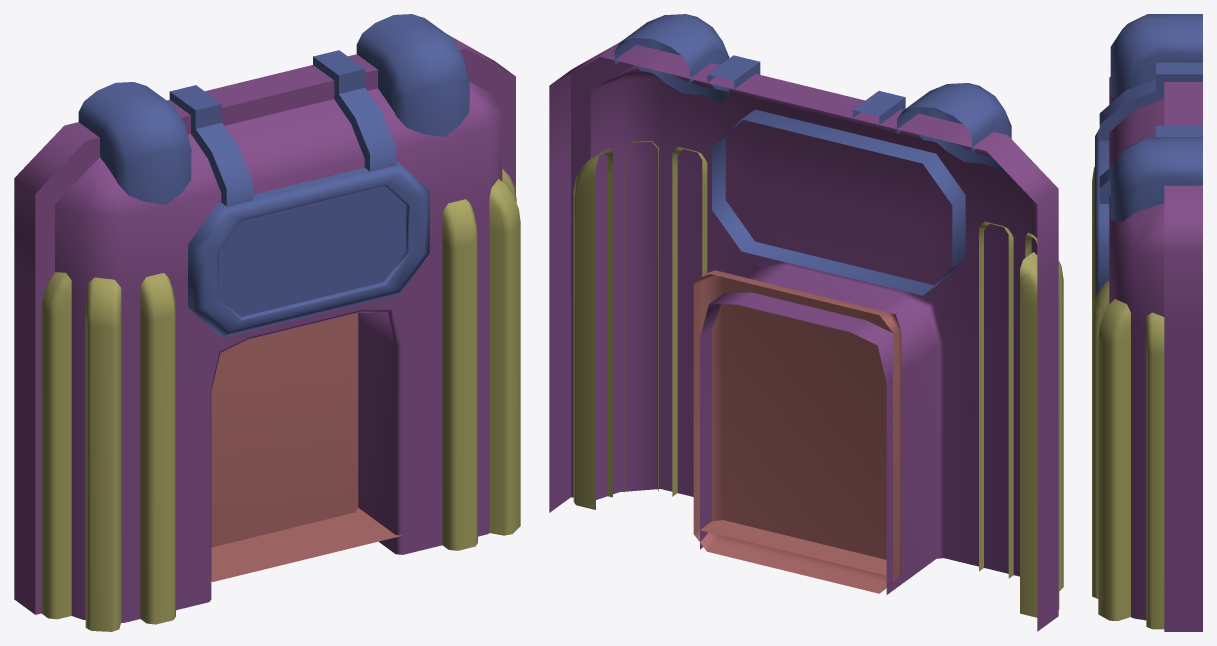
The model's file is Mesh_WorldGameplay_EnterExitDoor_V2.fbx.
The picture shows the model from 3 angles, left to right: view 1: azimuth 30°, elevation 25°; view 2: azimuth 150°, elevation 25°; view 3: azimuth 270°, elevation 25°; orthographic projection. The views are drawn at different scales.
Visible parts, largest first — view 1: pCube1, pCube8, pCube9, pCube10, pCube4, pCube3, pCube11, pPlane1; view 2: pCube1, pCube9, pCube8, pCube10, pCube3, pPlane1, pCube11; view 3: pCube1, pCube8, pCube10, pCube11, pCube3.
Part boxes in pixels (left/top/right/bottom): pCube1: left=14, top=34, right=515, bottom=622; pCube8: left=41, top=169, right=520, bottom=631; pCube9: left=211, top=313, right=358, bottom=547; pCube10: left=78, top=14, right=469, bottom=204; pCube4: left=218, top=186, right=406, bottom=316; pCube3: left=188, top=161, right=429, bottom=337; pCube11: left=169, top=50, right=396, bottom=206; pPlane1: left=210, top=508, right=401, bottom=582; pCube1: left=549, top=42, right=1058, bottom=631; pCube9: left=693, top=270, right=901, bottom=593; pCube8: left=573, top=141, right=1063, bottom=617; pCube10: left=614, top=14, right=1011, bottom=170; pCube3: left=712, top=109, right=965, bottom=295; pPlane1: left=700, top=520, right=886, bottom=575; pCube11: left=707, top=55, right=905, bottom=124; pCube1: left=1109, top=77, right=1202, bottom=631; pCube8: left=1092, top=166, right=1164, bottom=629; pCube10: left=1110, top=14, right=1202, bottom=221; pCube11: left=1099, top=62, right=1202, bottom=203; pCube3: left=1095, top=128, right=1109, bottom=298.
Bounding box in the file's own units: 653 × 639 × 144.
